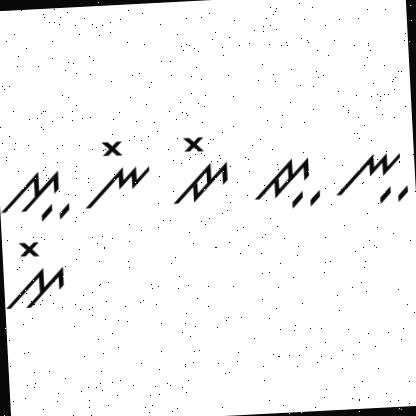jah: (247, 148, 324, 214)
jo: (164, 127, 232, 208)
nyah: (331, 140, 411, 212)
nyo: (78, 136, 154, 215)
sah: (0, 164, 73, 225)
so: (2, 235, 72, 312)
